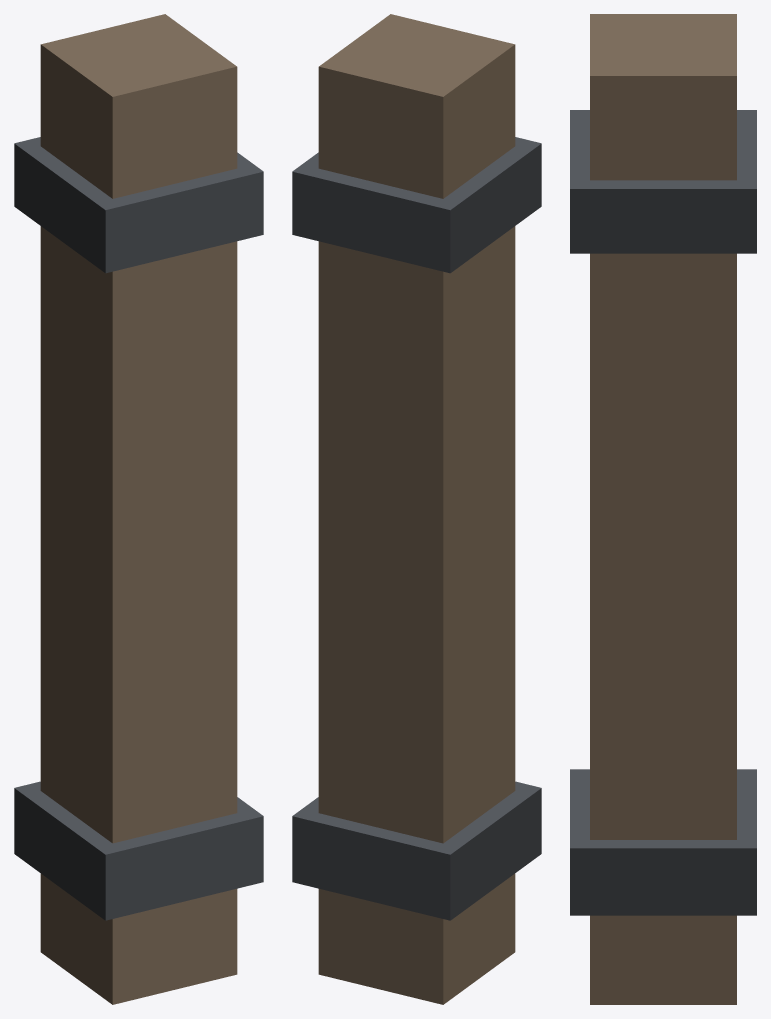
The model's file is SD_Env_Pillar_Wood_01.fbx.
3 views of the same model, side by side, from view 1: azimuth 30°, elevation 25°; view 2: azimuth 150°, elevation 25°; view 3: azimuth 270°, elevation 25° (orthographic). The views are drawn at different scales.
Visible parts, largest first — view 1: SD_Env_Pillar_Wood_01; view 2: SD_Env_Pillar_Wood_01; view 3: SD_Env_Pillar_Wood_01.
Part boxes in pixels (<box>): SD_Env_Pillar_Wood_01: <box>14,14,263,1004</box>; SD_Env_Pillar_Wood_01: <box>292,14,541,1004</box>; SD_Env_Pillar_Wood_01: <box>570,14,756,1004</box>.
Bounding box in the file's own units: 0.9119 × 5 × 0.9119.
